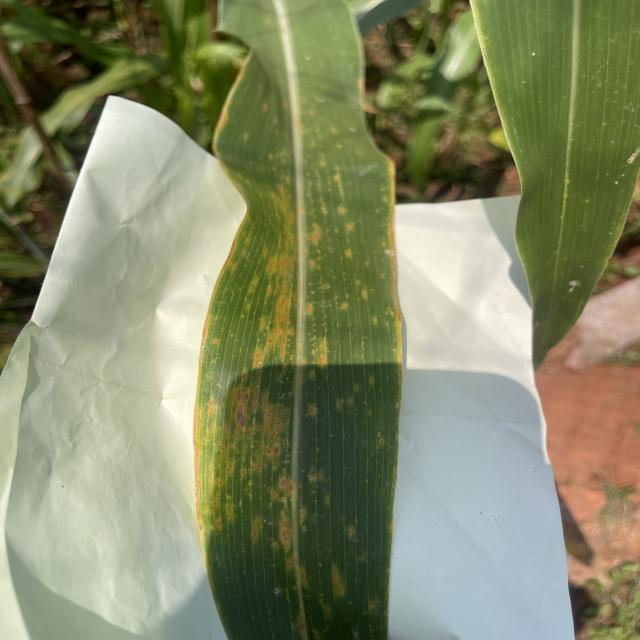millet_healthy: (471, 0, 640, 365)
millet_rust: (195, 0, 402, 640)
